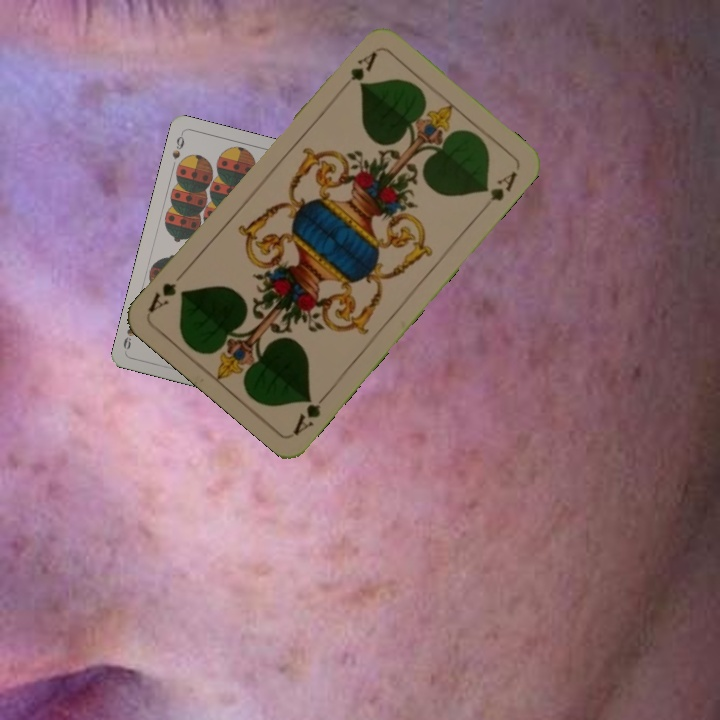GA: (289, 387, 332, 438), (346, 47, 380, 86)
S9: (168, 130, 187, 162)
